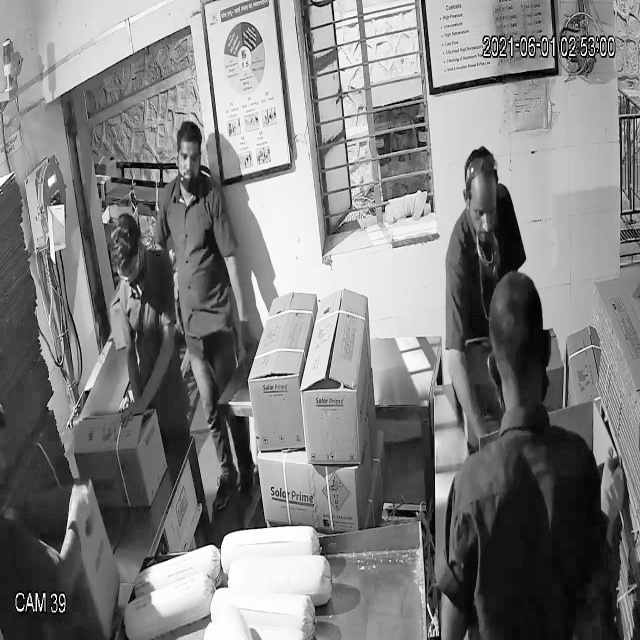Gafas: (108, 245, 147, 290)
Sin_gafas: (458, 186, 503, 227)
